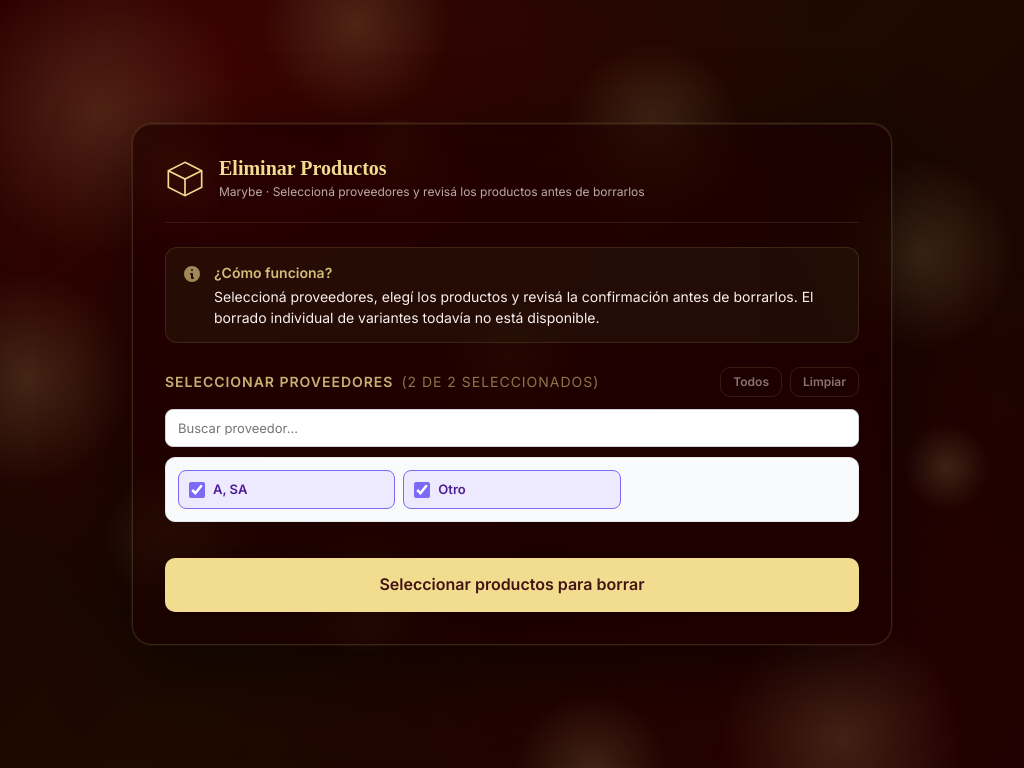
it: seleccionar visibles respeta la búsqueda y muestra errores parciales
This screenshot has width=1024, height=768.
Earlier steps of the test are not shown.
Click the button "Seleccionar productos para borrar": (512, 585) [165,558,859,612]
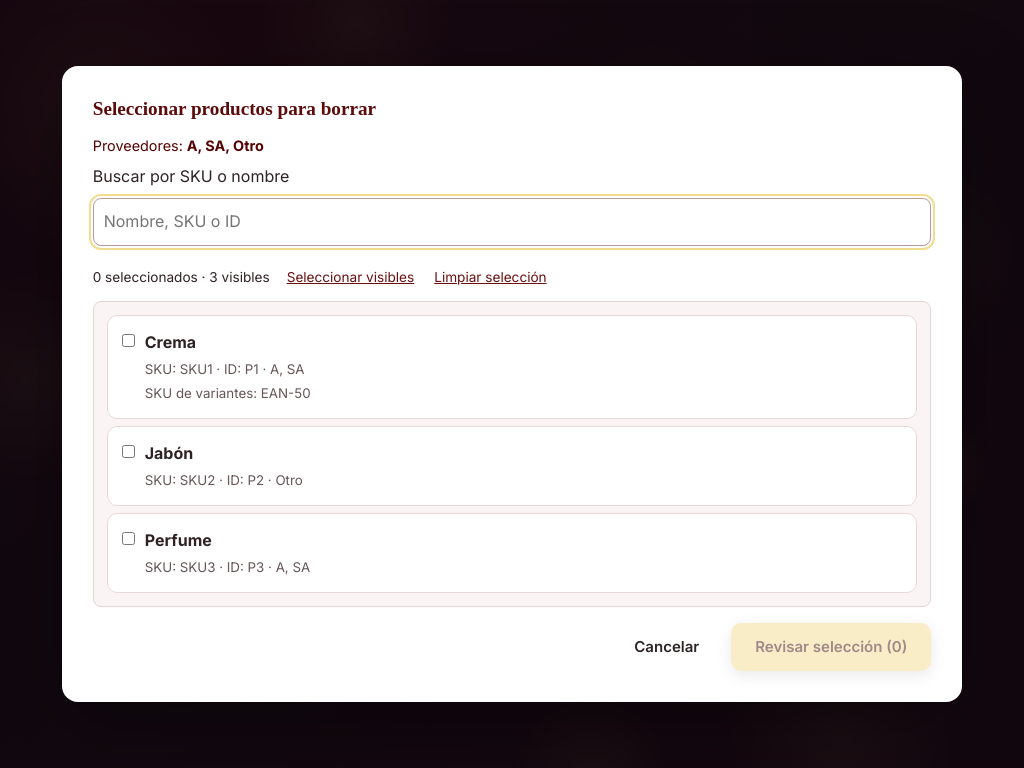
In the field: (512, 222) [93,198,931,246], type "SKU2"
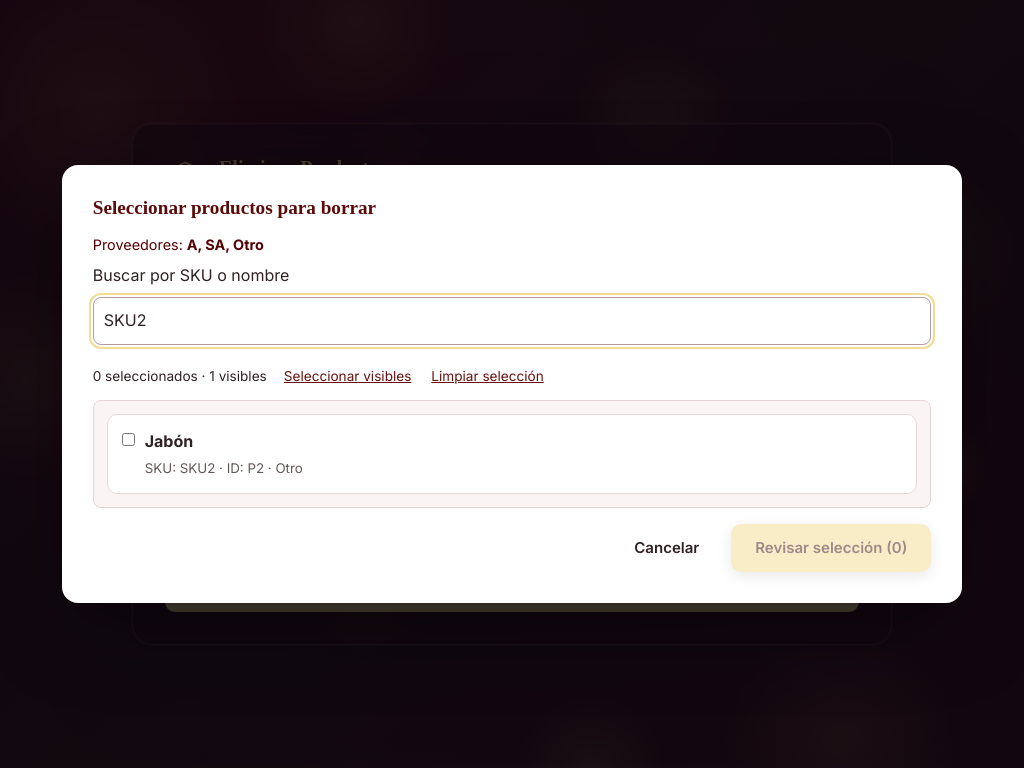
Click the button "Seleccionar visibles": (348, 376) [281,363,414,390]
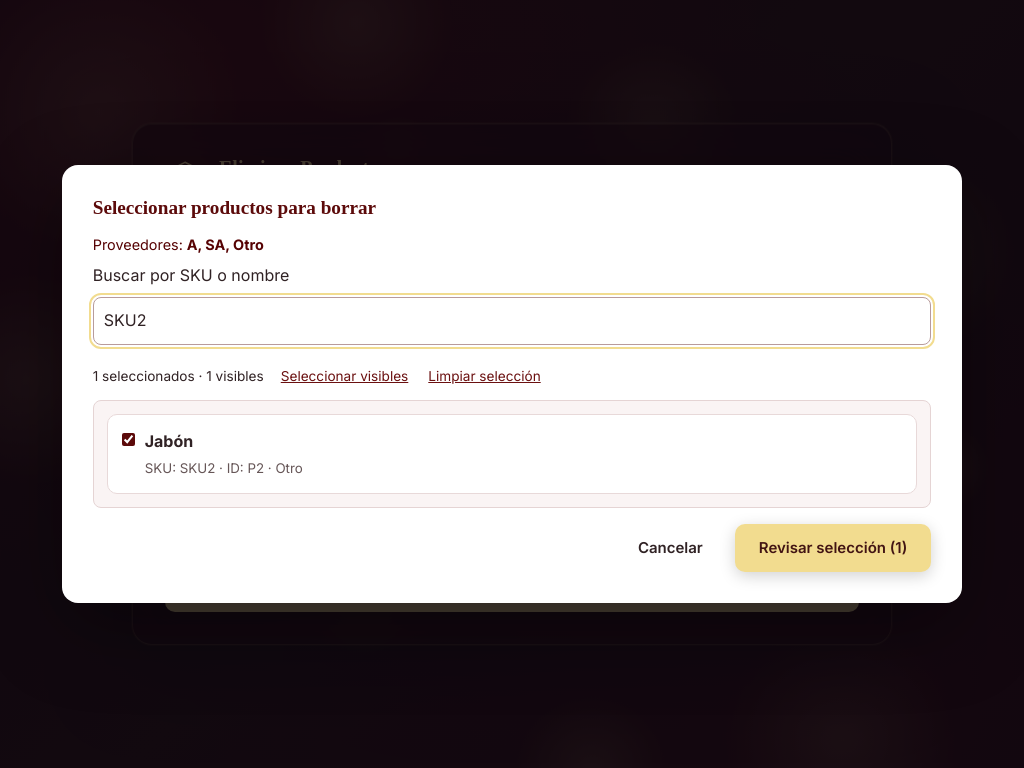
Click the button "Revisar selección (1)": (833, 548) [735,524,931,572]
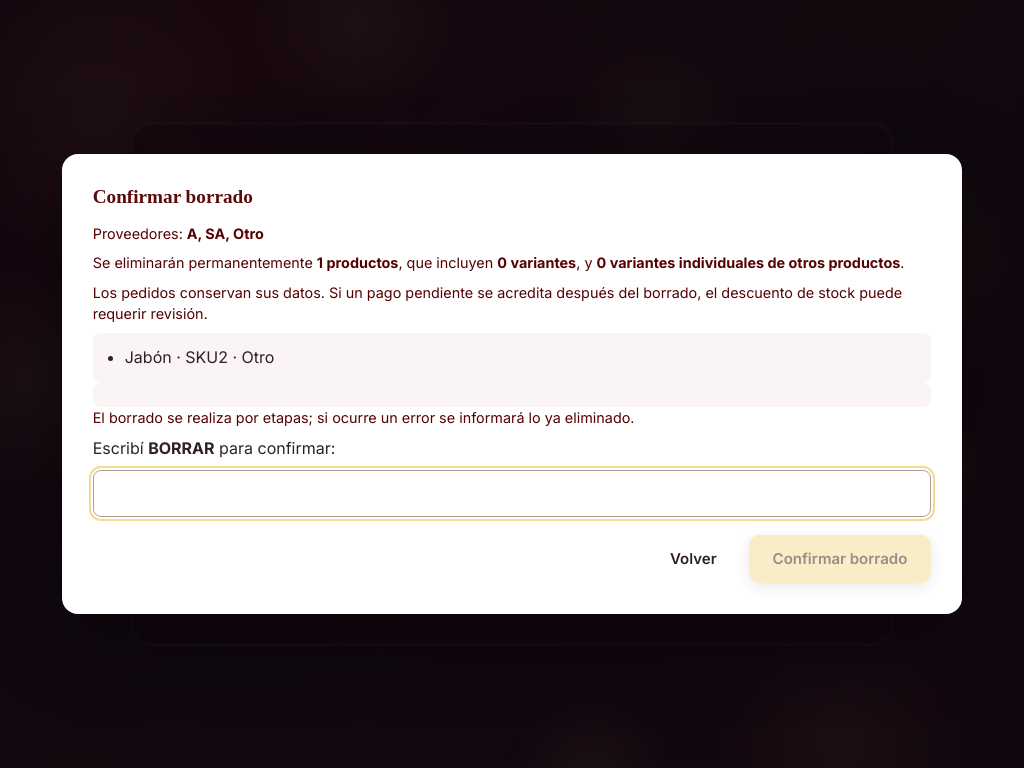
In the field: (512, 494) [93,470,931,517], type "BORRAR"
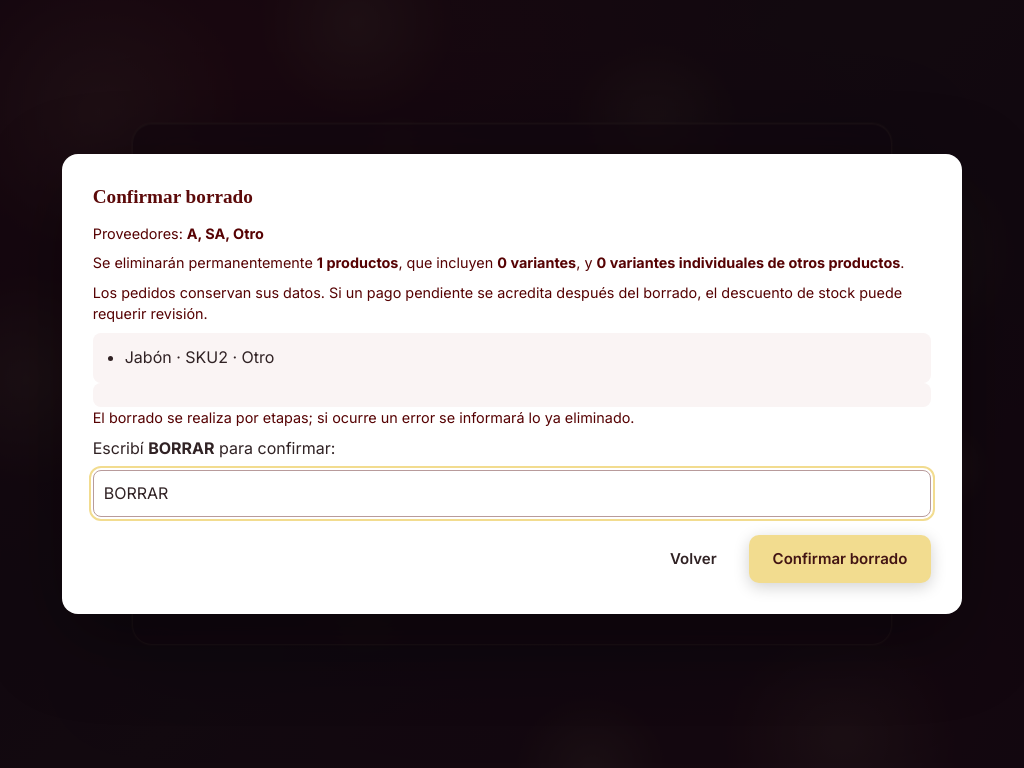
Click the button "Confirmar borrado": (840, 559) [749,535,931,583]
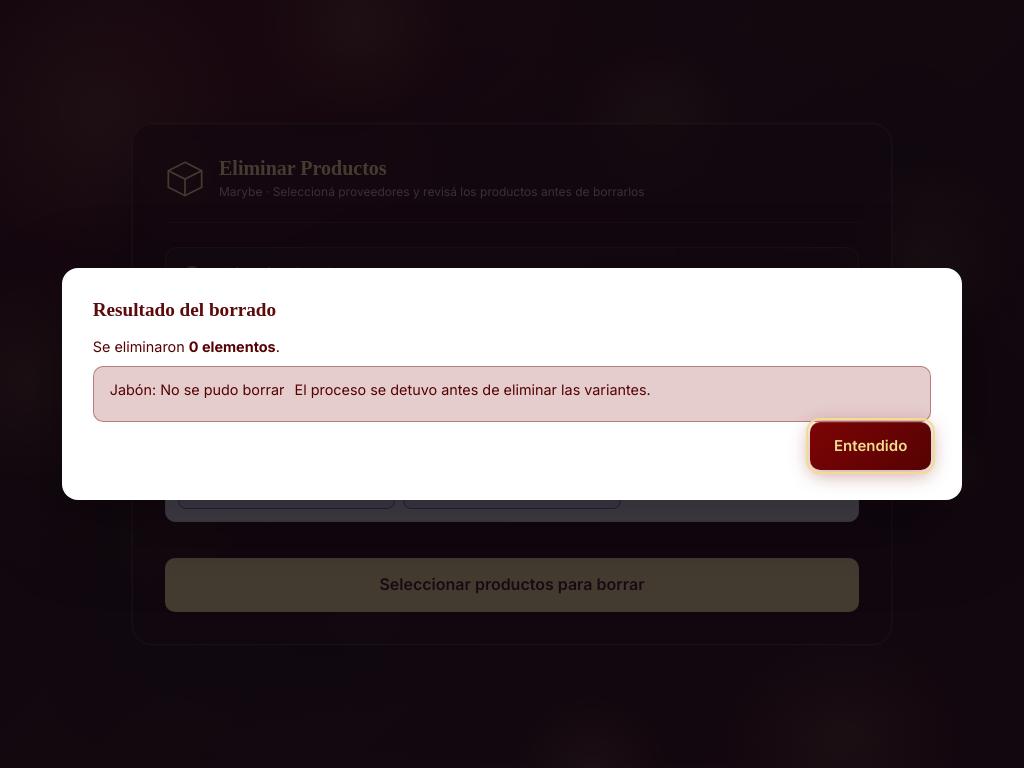
Expected: the text "Jabón: No se pudo borrar" is shown, [110,379,284,401]
